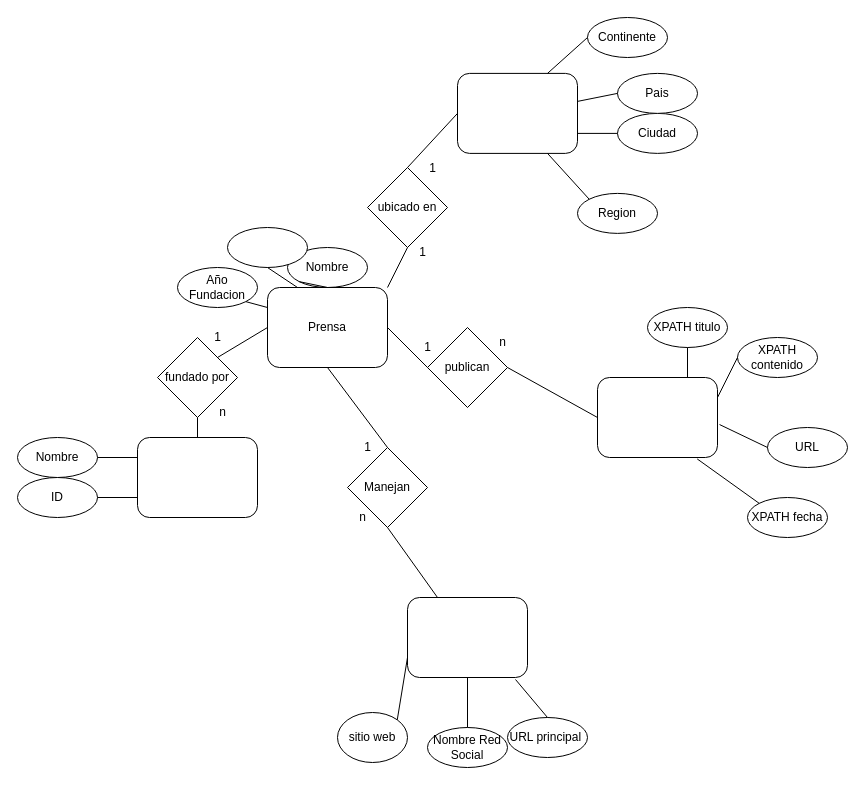
This 865x785 diagram has some shape labels left out. The centre of each missing label's shape, as x and y in pixels:
"Fundadores" goes at (197,477).
"Noticia" goes at (657,417).
"Red Social" goes at (467,637).
"TIpo Cobertura" goes at (267,247).
"Ubicacion Geografica" goes at (517,112).
